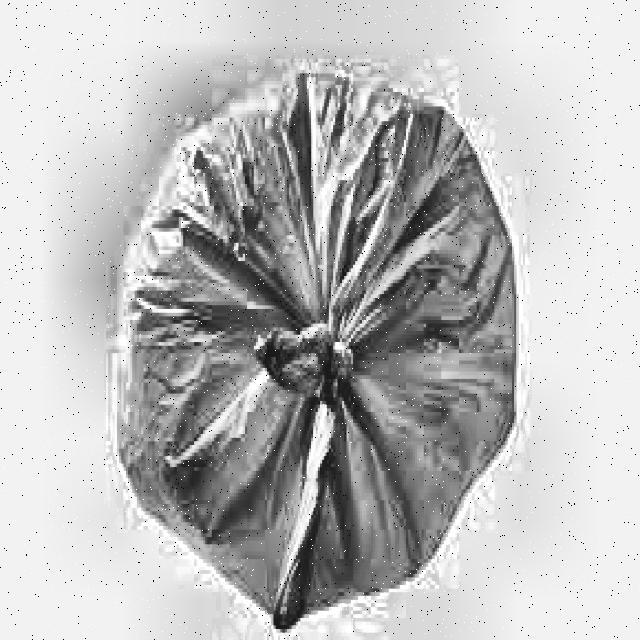Trashbag: (97, 60, 533, 634)
